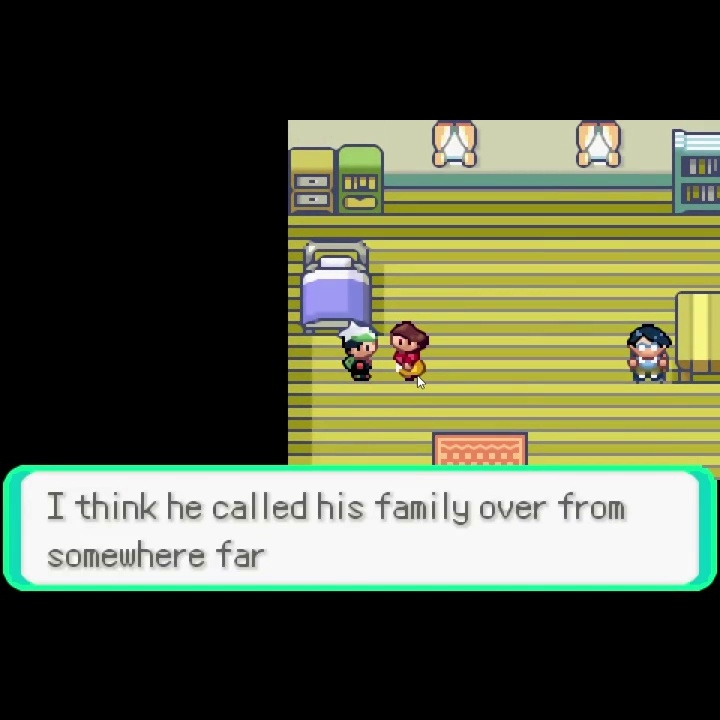exit: (429, 430, 529, 466)
npc: (625, 321, 673, 385), (387, 319, 431, 383), (339, 318, 379, 383)
